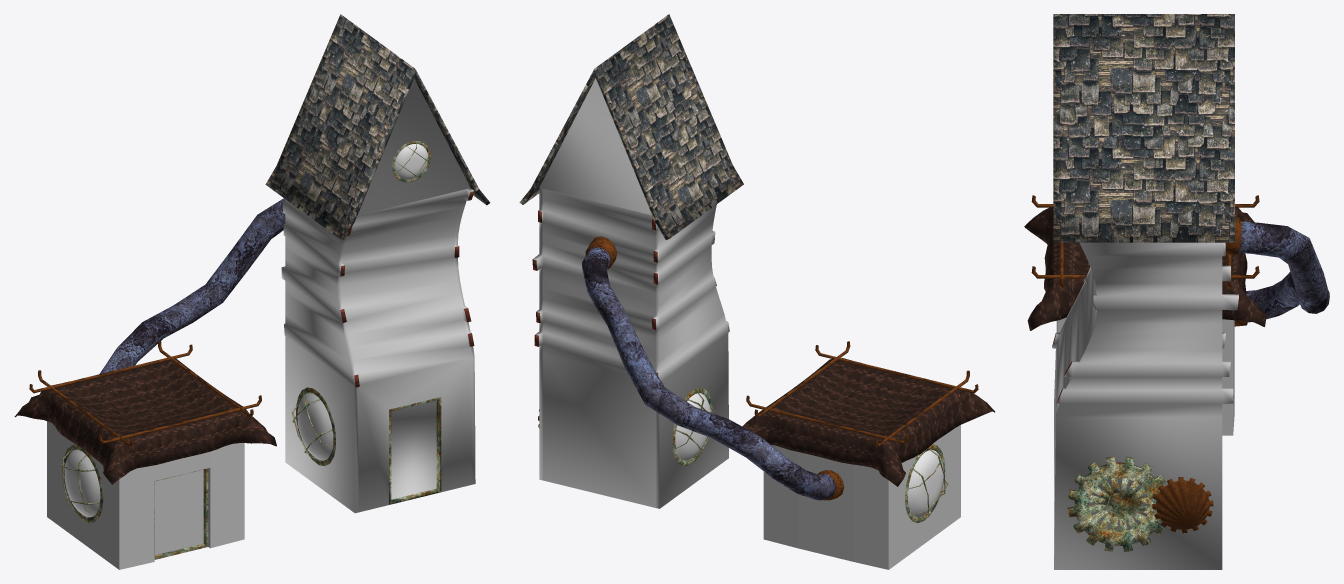
Rendered from Small Pneumatic tube.fbx.
The picture shows the model from 3 angles, left to right: view 1: azimuth 30°, elevation 25°; view 2: azimuth 150°, elevation 25°; view 3: azimuth 270°, elevation 25°; orthographic projection. The views are drawn at different scales.
Visible parts, largest first — view 1: TallHouse, Walls.001, Cloth, Pneumatic Tube (2), Pipes; view 2: TallHouse, Walls.001, Cloth, Pneumatic Tube (2), Pipes; view 3: TallHouse, Gear (1), Pneumatic Tube (2), Cloth, Gear2 (2), Walls.001, Pipes.
Boxes of the visible parts, left/top/right/bottom form: TallHouse: left=265, top=14, right=490, bottom=513; Walls.001: left=47, top=421, right=244, bottom=569; Cloth: left=14, top=358, right=276, bottom=484; Pneumatic Tube (2): left=99, top=198, right=285, bottom=374; Pipes: left=29, top=341, right=261, bottom=446; TallHouse: left=519, top=14, right=743, bottom=508; Walls.001: left=763, top=425, right=960, bottom=569; Cloth: left=742, top=358, right=994, bottom=486; Pneumatic Tube (2): left=582, top=236, right=844, bottom=500; Pipes: left=746, top=341, right=978, bottom=447; TallHouse: left=1052, top=14, right=1238, bottom=569; Gear (1): left=1067, top=456, right=1165, bottom=551; Pneumatic Tube (2): left=1225, top=217, right=1329, bottom=326; Cloth: left=1024, top=207, right=1266, bottom=330; Gear2 (2): left=1152, top=477, right=1213, bottom=533; Walls.001: left=1056, top=317, right=1234, bottom=435; Pipes: left=1031, top=195, right=1259, bottom=288.
Bounding box in the file's own units: 650 × 683 × 363.
